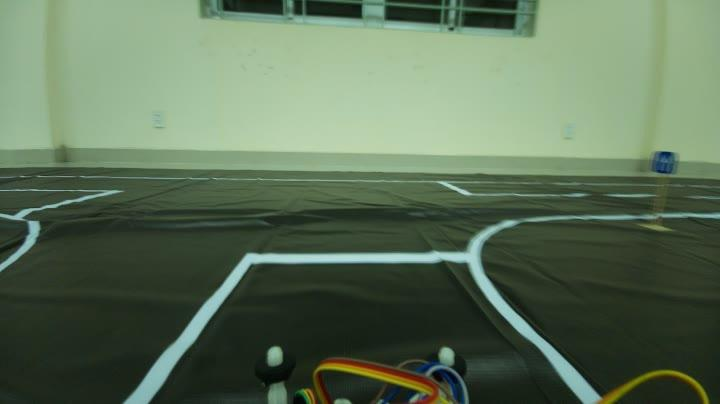onewayroad: (649, 140, 677, 182)
